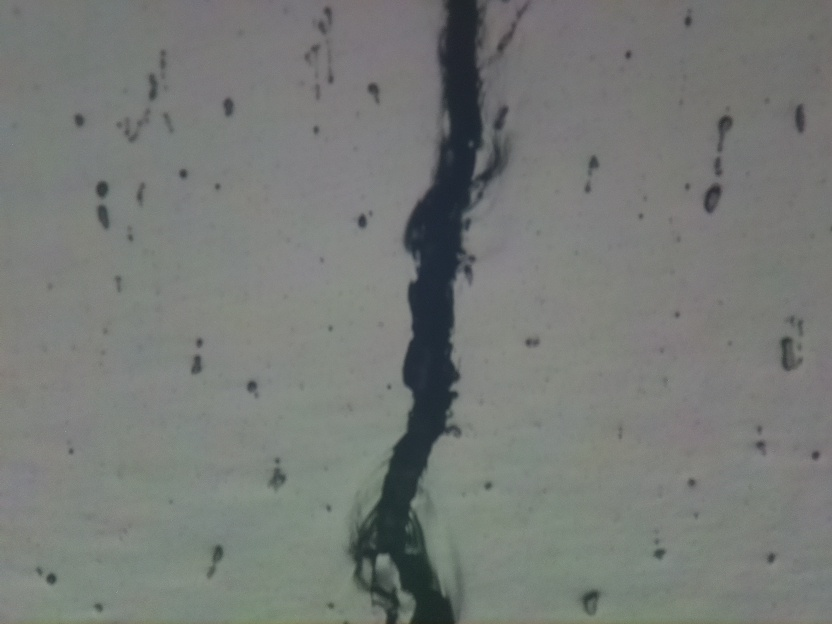crack: (362, 0, 486, 622)
